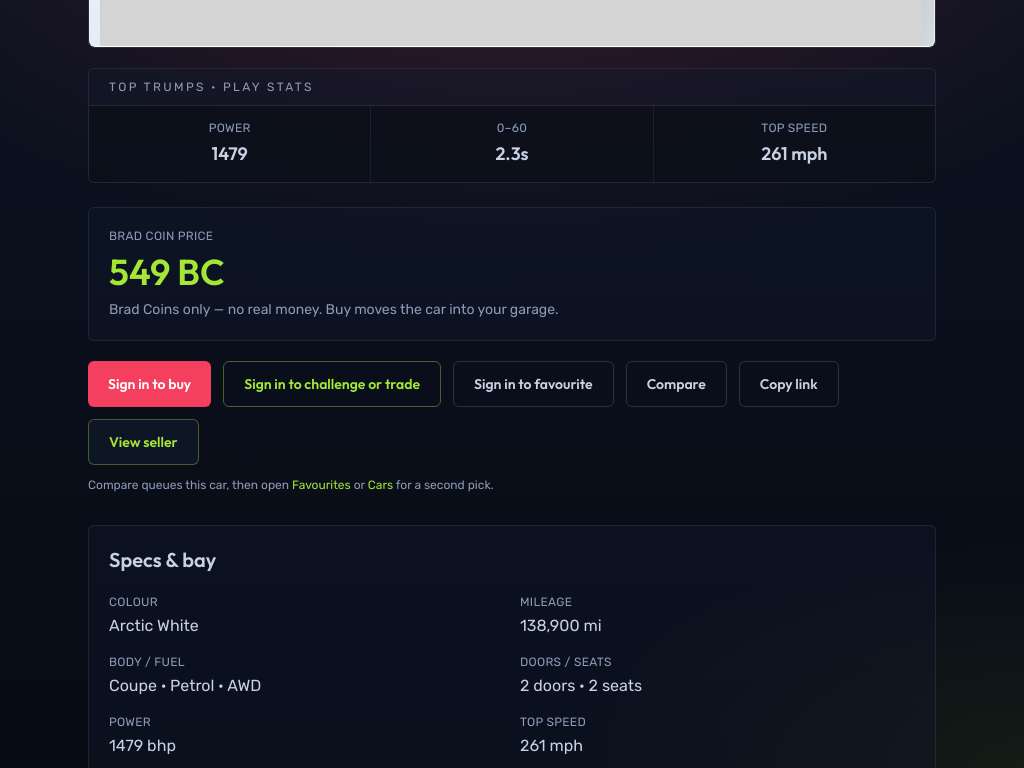
Test: ListingPage Midnight Garage UI › copies the absolute listing URL with a success toast
(page scrolled)
Click the button "Copy link": (789, 384) [739,361,838,407]
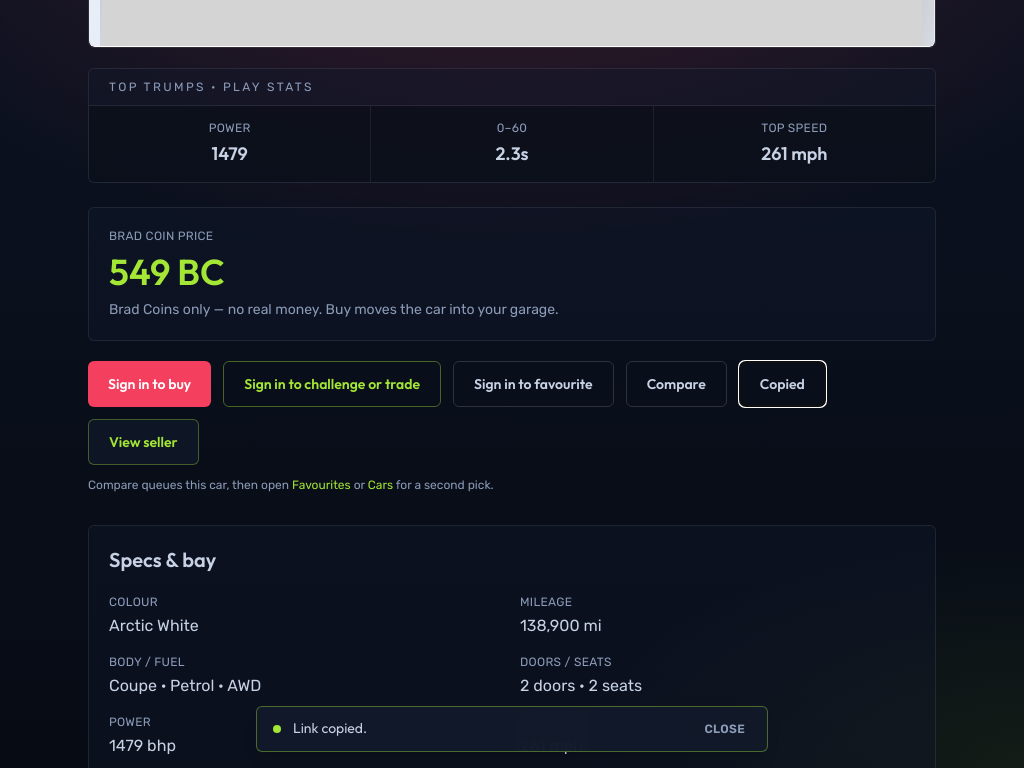
Expected: the button "Sign in to buy" is shown, [88,361,211,407]
Now the message shows "Link copied.", box [293,719,367,737]
